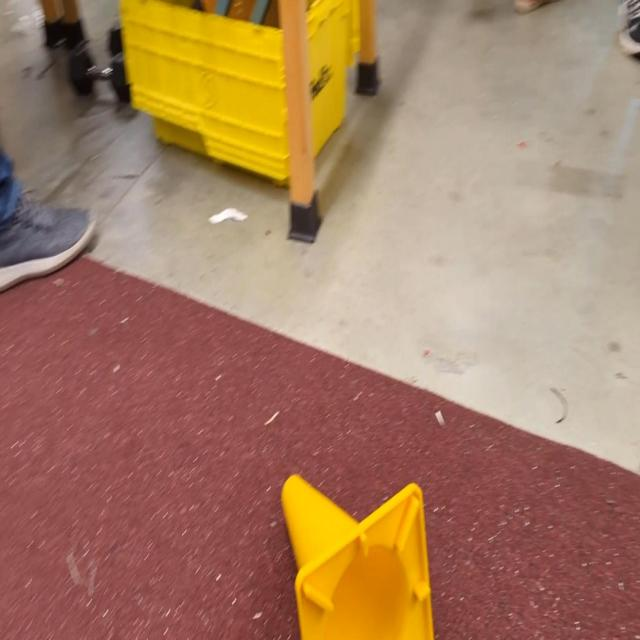frc_cone: (280, 474, 433, 639)
